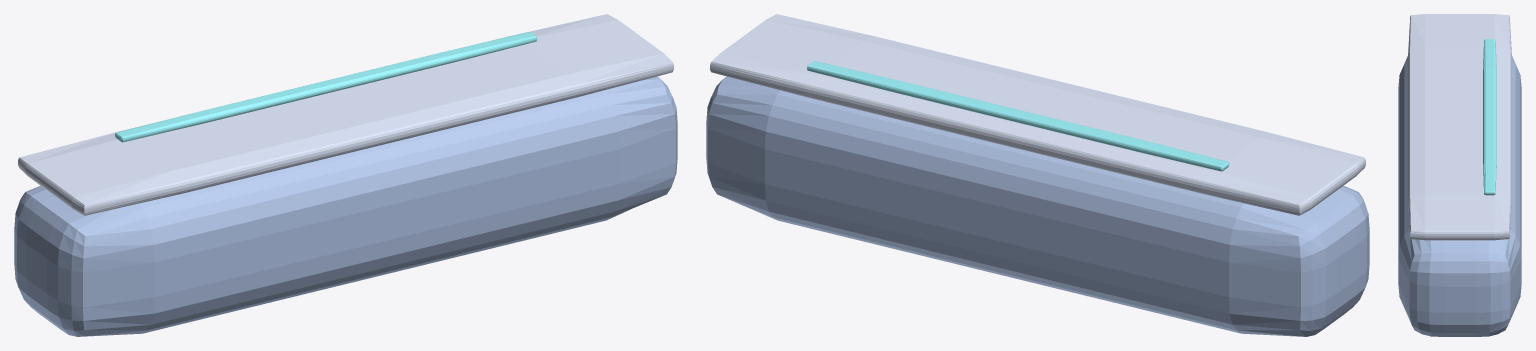
The model's file is frame_edge.glb.
3 views of the same model, side by side, from view 1: azimuth 30°, elevation 25°; view 2: azimuth 150°, elevation 25°; view 3: azimuth 270°, elevation 25° (orthographic). The views are drawn at different scales.
Parts seen in each view (by area): view 1: frame_edge:body, frame_edge:upper_face, frame_edge:light_strip; view 2: frame_edge:body, frame_edge:upper_face, frame_edge:light_strip; view 3: frame_edge:upper_face, frame_edge:body, frame_edge:light_strip.
Part boxes in pixels (x1,y1,x2,y2): frame_edge:body: (14,76,677,336); frame_edge:upper_face: (18,14,673,215); frame_edge:light_strip: (115,32,537,142); frame_edge:body: (706,76,1369,336); frame_edge:upper_face: (710,14,1365,215); frame_edge:light_strip: (807,61,1229,171); frame_edge:upper_face: (1408,14,1511,240); frame_edge:body: (1398,56,1521,336); frame_edge:light_strip: (1483,39,1496,195).
Size of the model in its own units: 1.02 by 0.261 by 0.235.
